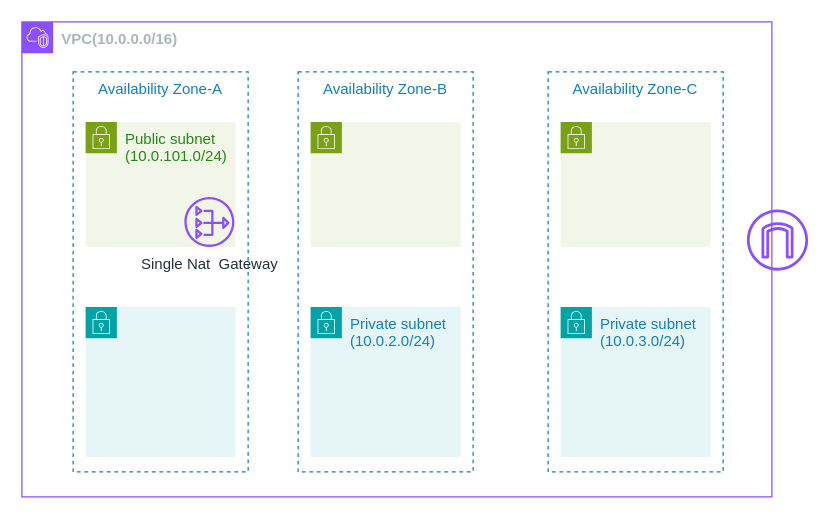
The diagram is 830 pixels wide and 519 high, and some of its shapes have lost their labels. Here are the shapes that lost their labels. From the top down, the centre of each, then its label:
At (x=385, y=184): "Public subnet (10.0.102.0/24)".
At (x=635, y=184): "Public subnet (10.0.103.0/24)".
At (x=777, y=239): "IGW".
At (x=160, y=381): "Private subnet (10.0.1.0/24)".
